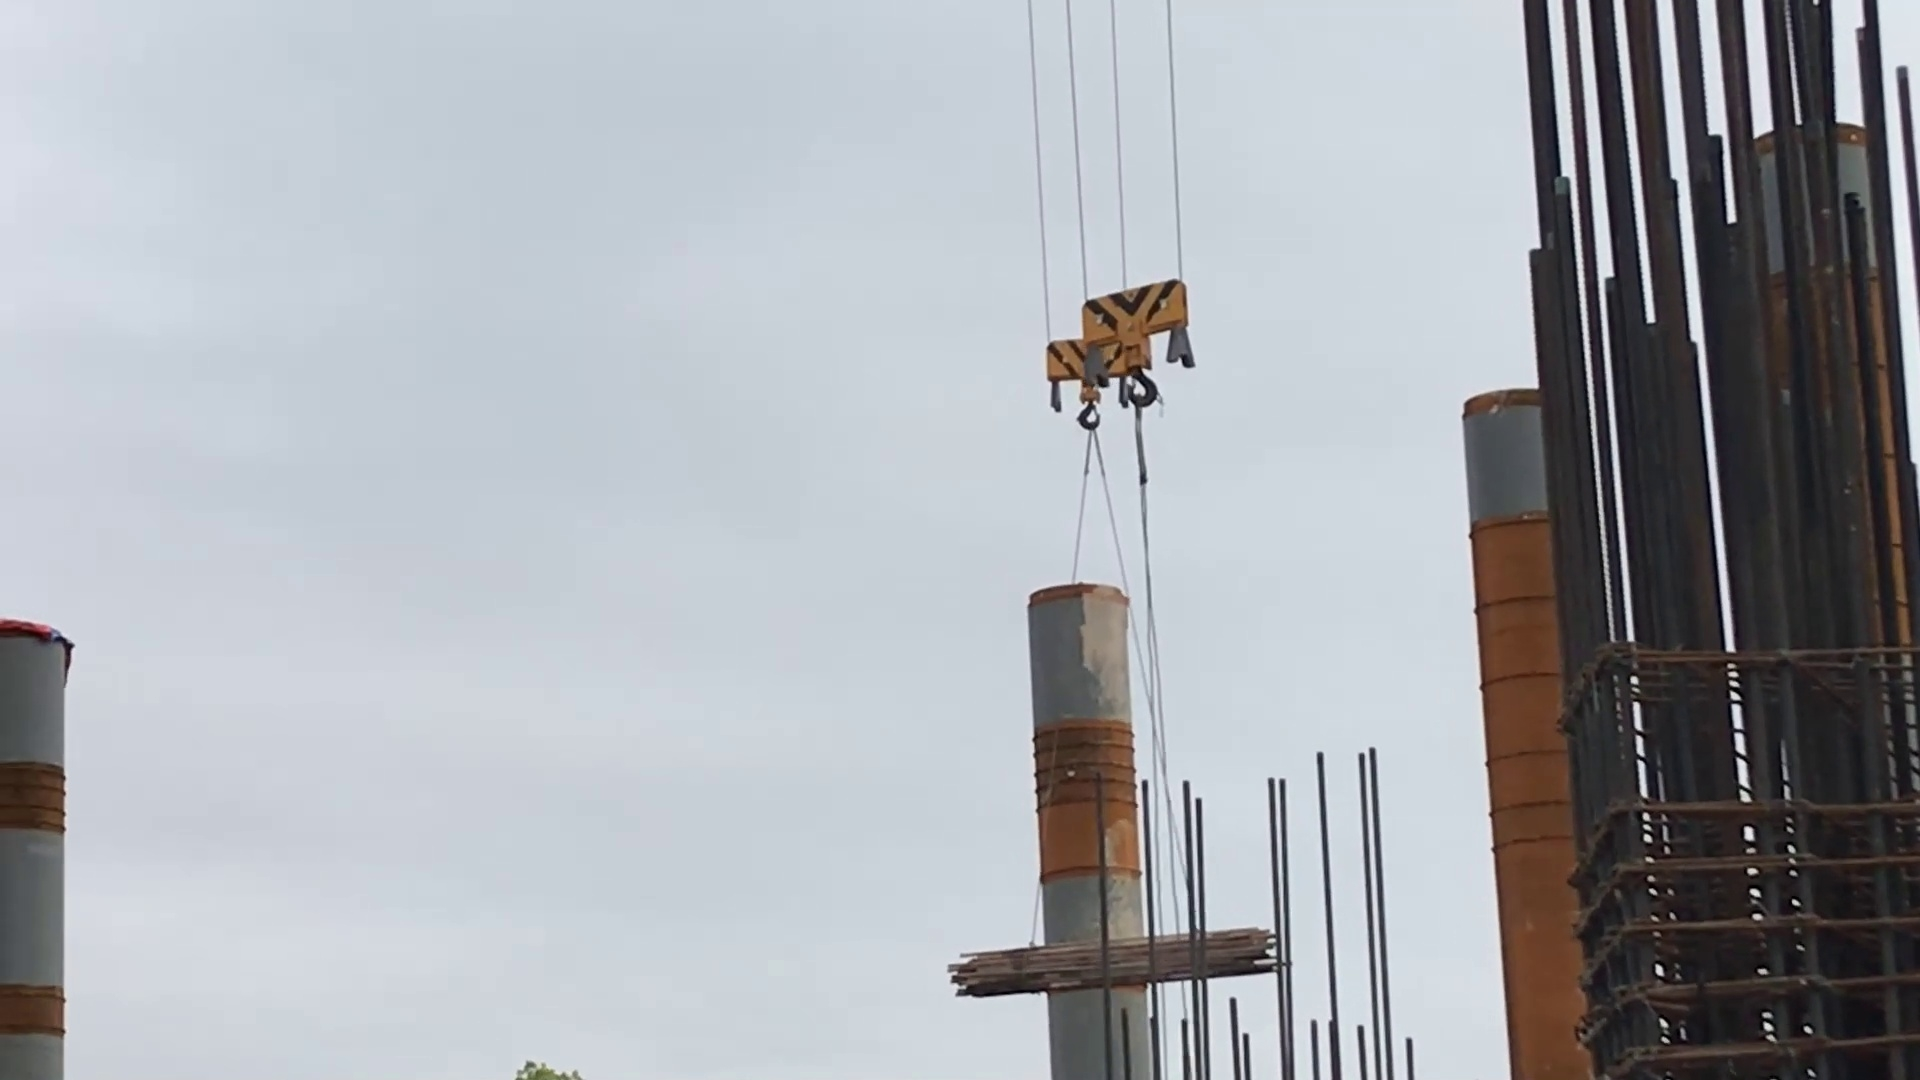hook: (1079, 276, 1197, 409), (1044, 335, 1151, 433)
